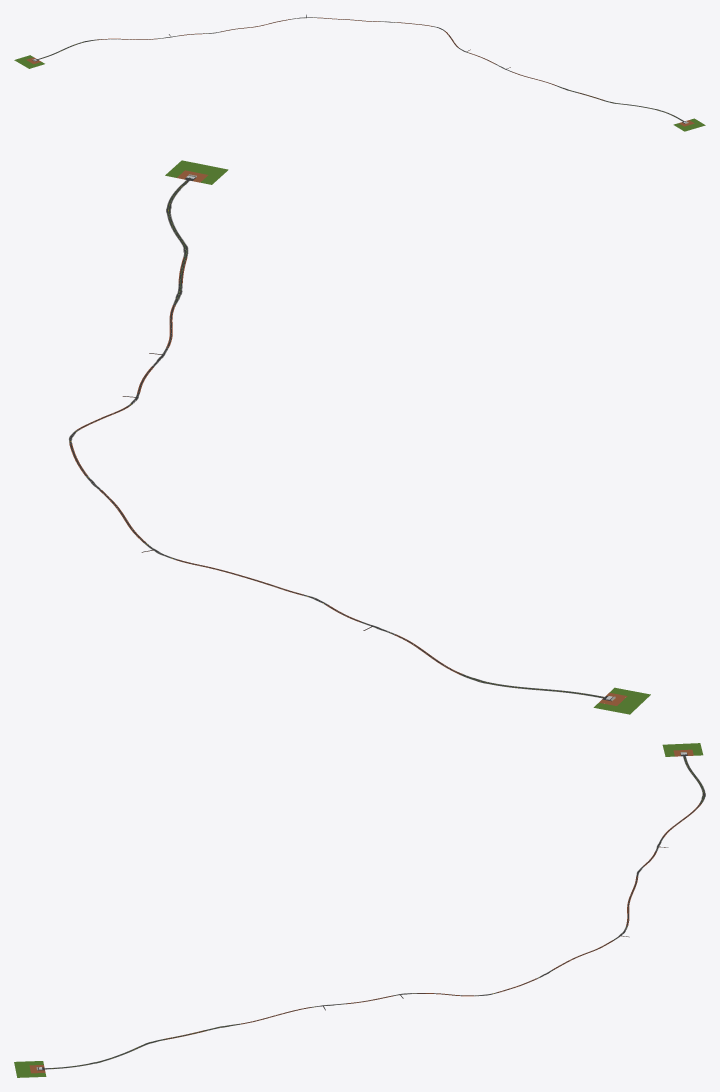
Rendered from road.glb.
3 views of the same model, one above another, from view 1: azimuth 30°, elevation 25°; view 2: azimuth 150°, elevation 25°; view 3: azimuth 270°, elevation 25° (orthographic). The views are drawn at different scales.
Parts seen in each view (by area): view 1: Terminals; view 2: Terminals; view 3: Terminals.
Part boxes in pixels (x1=…): Terminals: x1=14, y1=55, x2=705, y2=131; Terminals: x1=165, y1=160, x2=650, y2=714; Terminals: x1=14, y1=743, x2=703, y2=1077.
Bounding box in the file's own units: 6902 × 93.47 × 6185.
